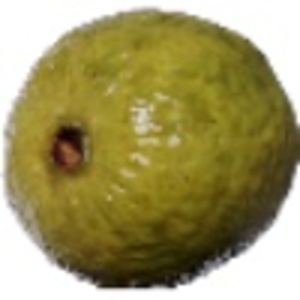goiaba: (5, 6, 293, 277)
